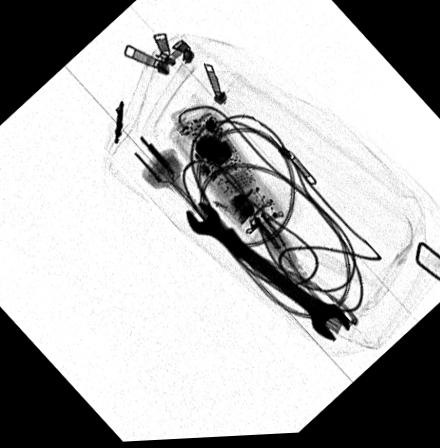Wrench: (183, 194, 356, 344)
